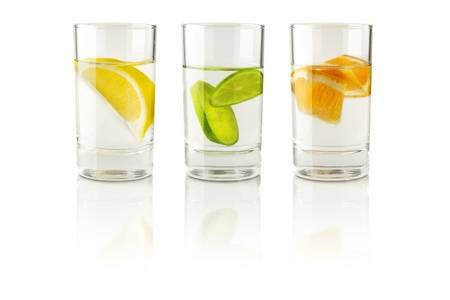glass of water: (287, 17, 377, 190), (72, 17, 161, 185), (181, 19, 266, 183)
